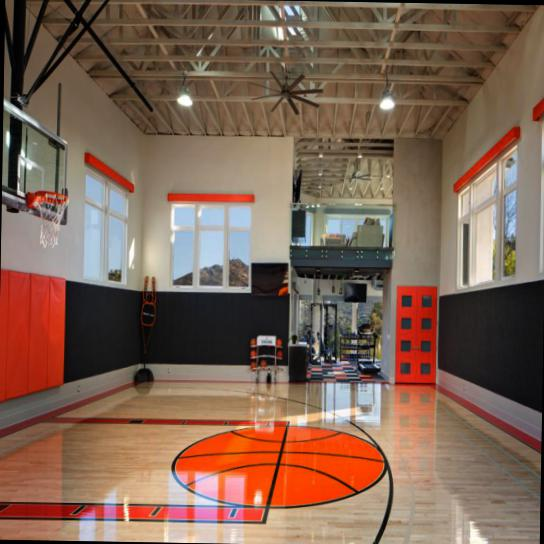basketball-hoop: (31, 188, 69, 249)
